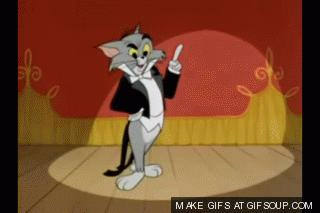tom: (90, 21, 186, 192)
